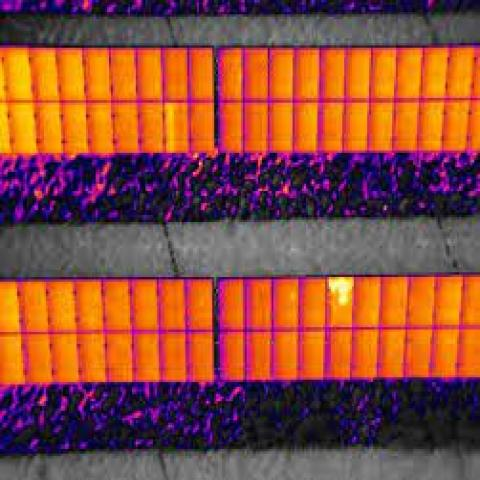fault: (327, 277, 355, 308), (164, 102, 176, 150)
